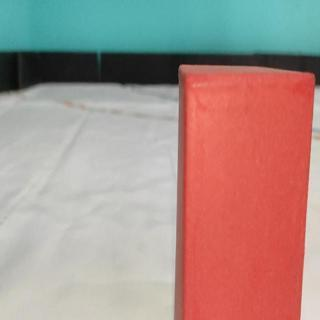redbox: (181, 68, 303, 320)
